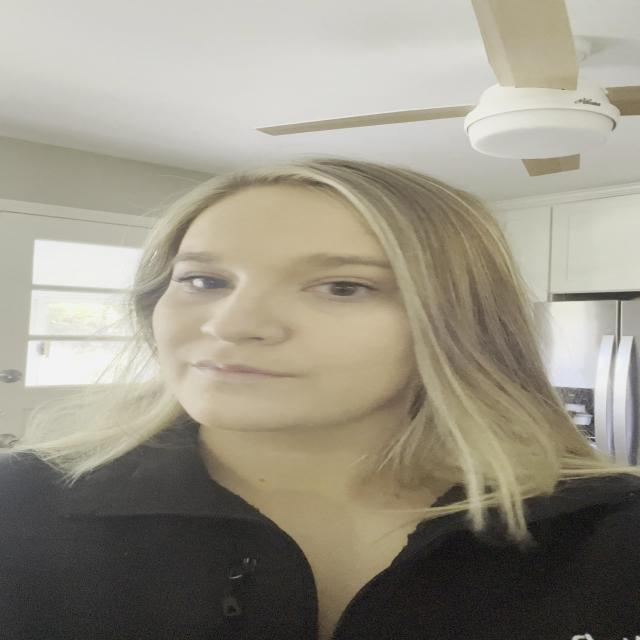no-helmet: (130, 166, 507, 474)
